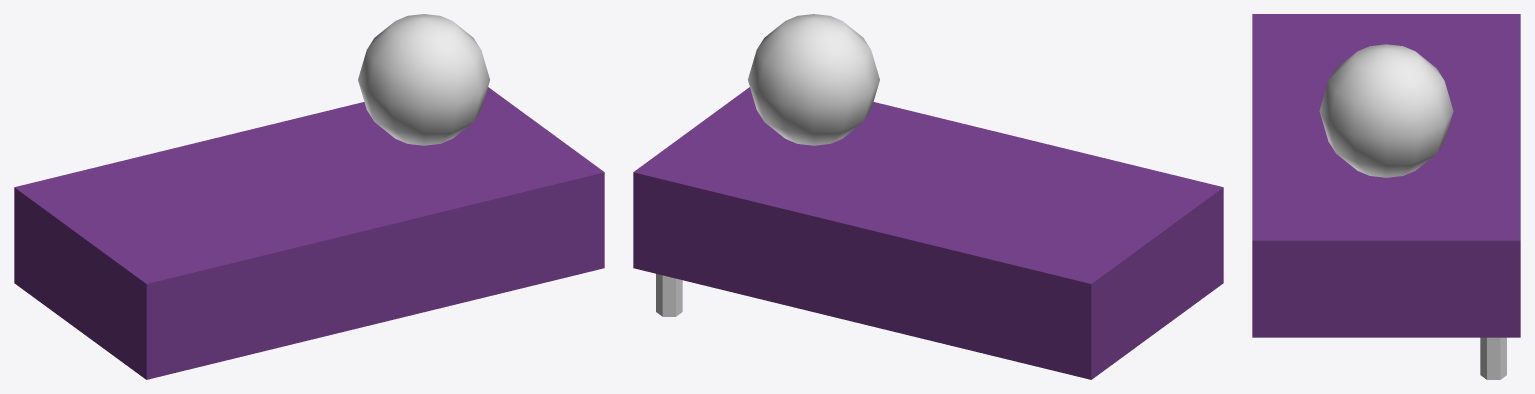
Rendered from velvet_sofa.out_sofa.glb.
3 renders of one model, left to right at view 1: azimuth 30°, elevation 25°; view 2: azimuth 150°, elevation 25°; view 3: azimuth 270°, elevation 25°, orthographic.
Parts seen in each view (by area): view 1: Seat, Cushion; view 2: Seat, Cushion, Leg; view 3: Seat, Cushion, Leg.
Boxes of the visible parts, <box> form: Seat: <box>14,87,604,379</box>; Cushion: <box>358,14,489,145</box>; Seat: <box>633,87,1223,379</box>; Cushion: <box>748,14,879,145</box>; Leg: <box>656,274,682,316</box>; Seat: <box>1252,14,1520,337</box>; Cushion: <box>1319,44,1453,177</box>; Leg: <box>1480,337,1506,379</box>.
Size of the model in its own units: 4 by 2.3 by 2.
